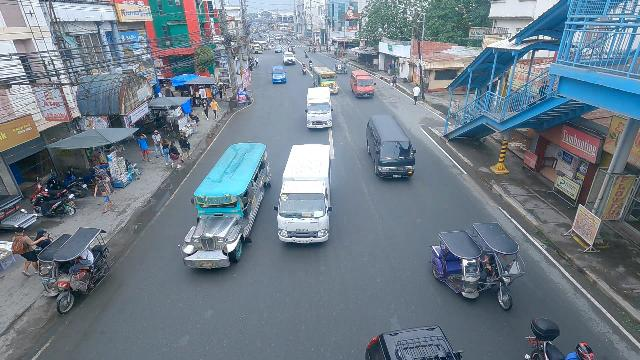car: (271, 64, 286, 84), (283, 52, 296, 65), (275, 45, 283, 53)
jeepney: (178, 142, 272, 272), (312, 66, 340, 94), (253, 40, 271, 50), (252, 43, 263, 54)
motorcycle: (308, 58, 313, 71), (302, 65, 307, 75), (304, 48, 309, 58)
van: (272, 141, 333, 249), (363, 113, 417, 182), (305, 87, 331, 130), (349, 69, 377, 100)
